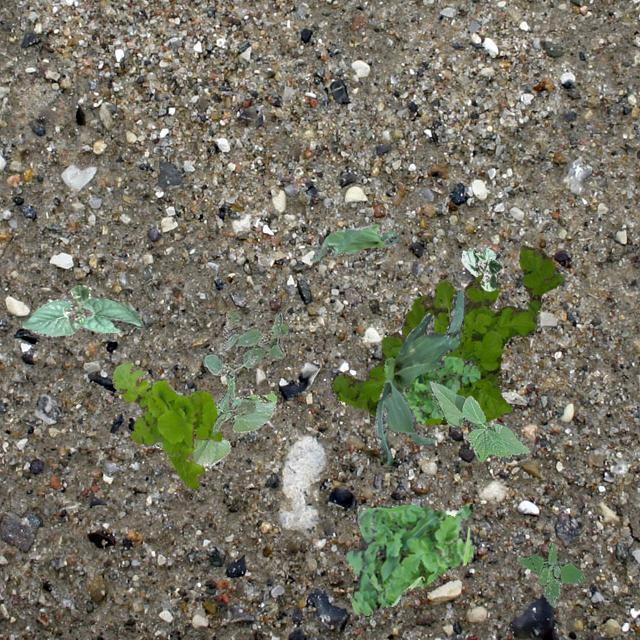crop: (372, 288, 463, 464), (150, 392, 276, 470), (428, 379, 530, 462), (22, 284, 142, 336), (308, 223, 398, 260), (459, 247, 502, 290)
weed: (330, 244, 562, 423), (344, 502, 474, 614), (110, 360, 220, 488), (200, 310, 286, 434), (382, 354, 480, 424), (516, 542, 584, 606)
